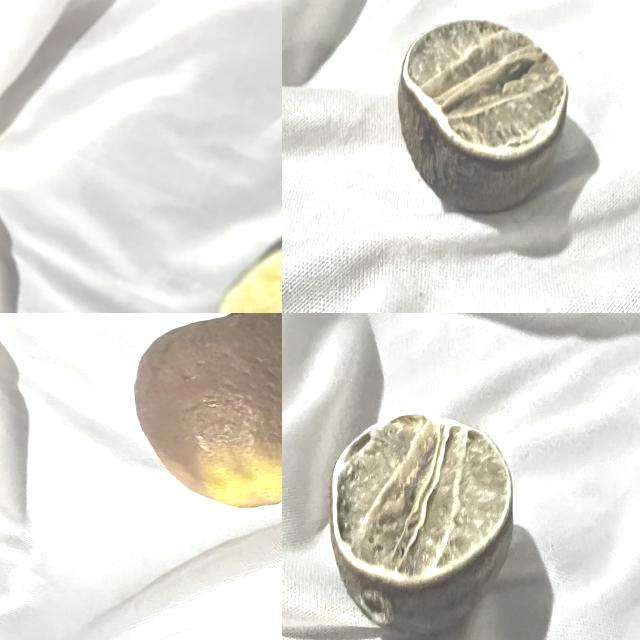General: (329, 411, 517, 635)
Infectious: (398, 17, 570, 213), (134, 312, 283, 508)
